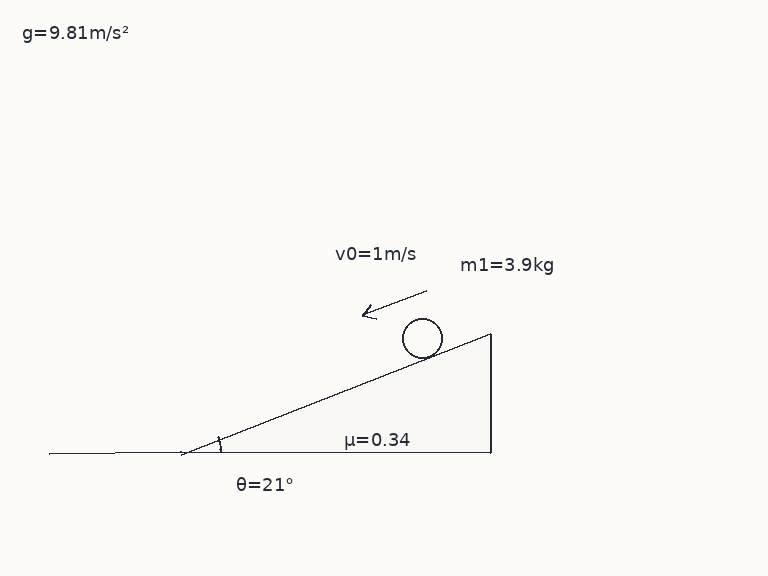ball: (400, 316, 444, 360)
ramp: (179, 331, 492, 454)
